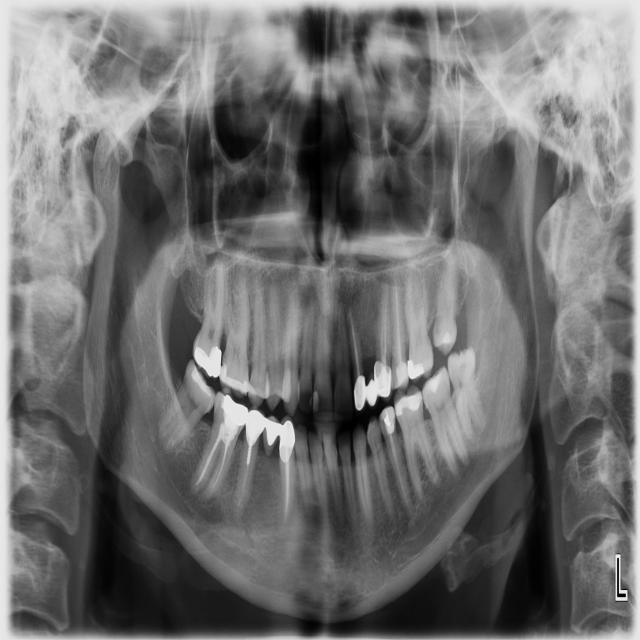mandibula: (83, 103, 541, 627)
